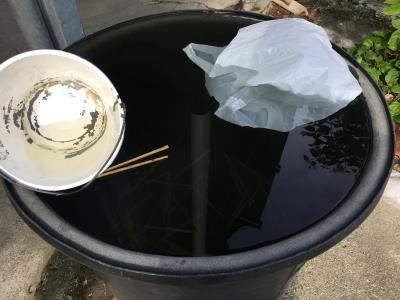bowl: (1, 48, 134, 199)
bucket: (3, 6, 399, 300)
plastic_bag: (177, 17, 367, 138)
